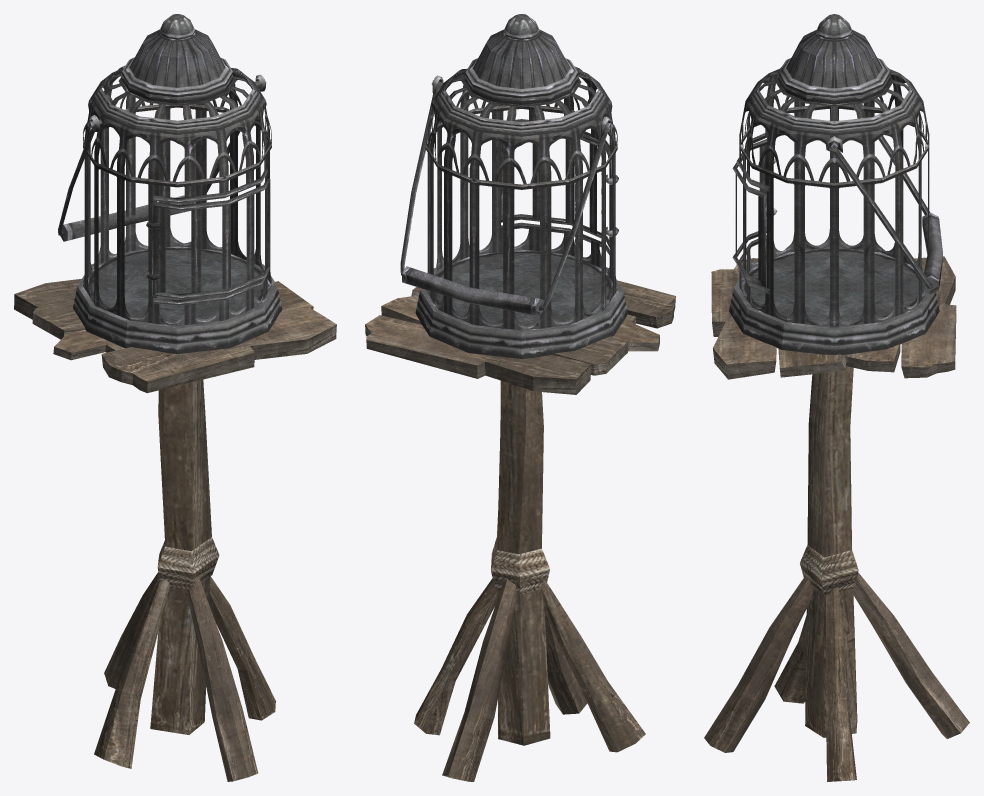
Rendered from bg_atm_loghill_prop05_sm_ljd.FBX.
The picture shows the model from 3 angles, left to right: view 1: azimuth 30°, elevation 25°; view 2: azimuth 150°, elevation 25°; view 3: azimuth 270°, elevation 25°; orthographic projection.
Visible parts, largest first — view 1: bg_atm_loghill_prop05_sm_ljd; view 2: bg_atm_loghill_prop05_sm_ljd; view 3: bg_atm_loghill_prop05_sm_ljd.
Part boxes in pixels (x1,y1,x2,y2): bg_atm_loghill_prop05_sm_ljd: (14,14,336,781); bg_atm_loghill_prop05_sm_ljd: (365,14,675,781); bg_atm_loghill_prop05_sm_ljd: (704,14,969,781).
Size of the model in its own units: 70.86 by 207 by 68.19.
